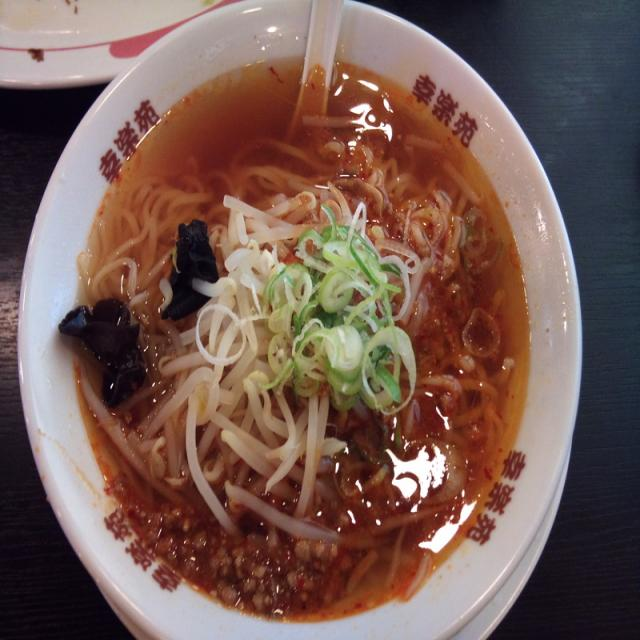面条主食: (13, 0, 595, 640)
